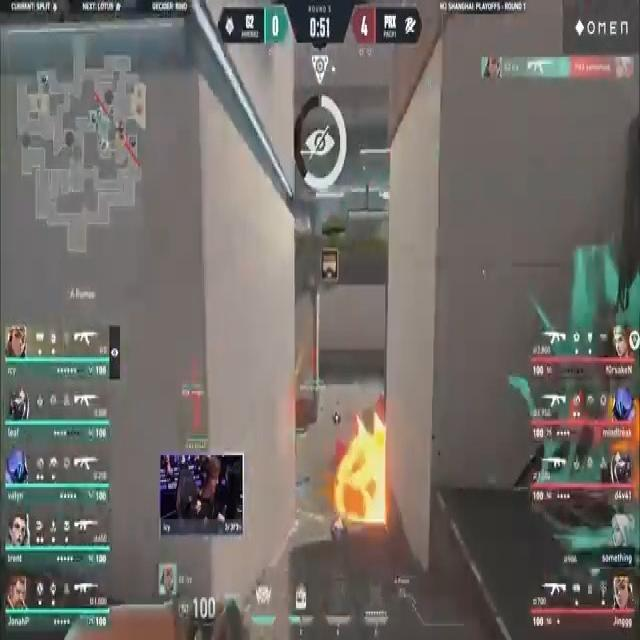enemy behind wall: (190, 390, 208, 436), (310, 343, 318, 373)
